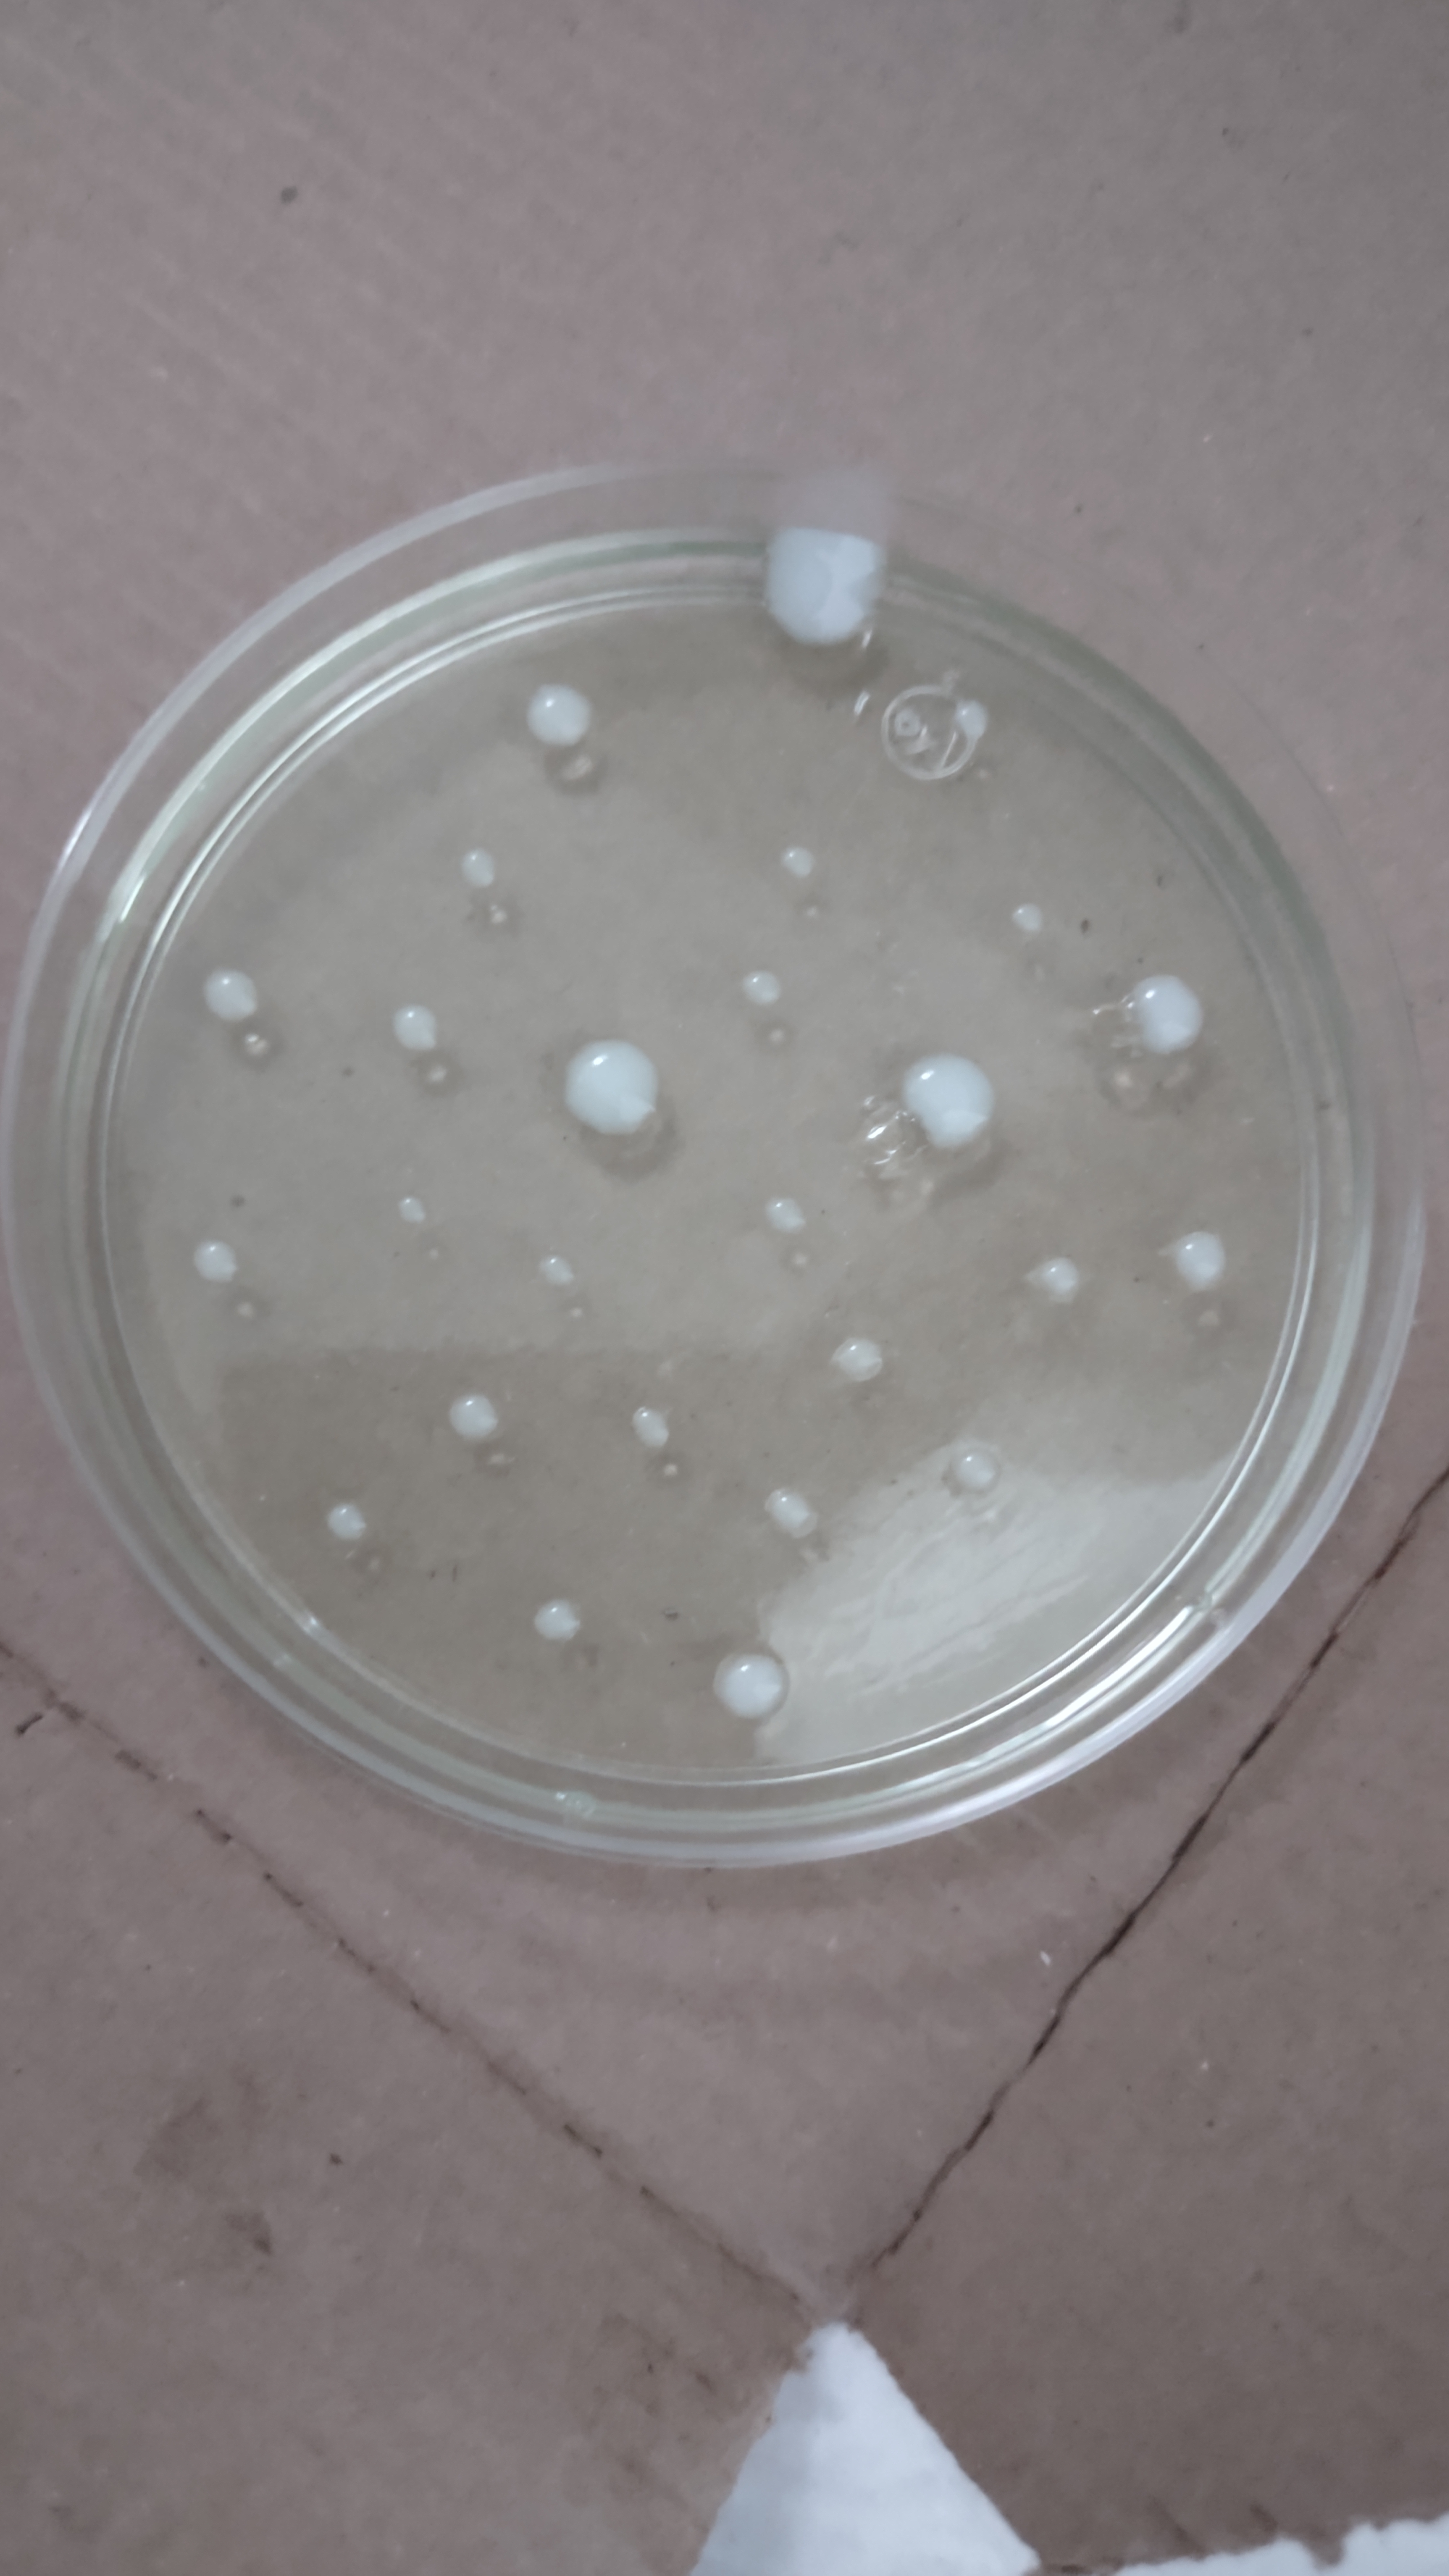Colonia: (763, 524, 881, 651), (895, 1047, 996, 1161), (563, 1031, 662, 1143), (1129, 973, 1208, 1058), (709, 1649, 793, 1721), (522, 683, 596, 747), (763, 1481, 826, 1539), (1030, 1247, 1086, 1313), (1175, 1224, 1230, 1292), (202, 966, 262, 1023), (945, 1447, 1000, 1500), (446, 1394, 506, 1440), (531, 1592, 584, 1644), (833, 1336, 888, 1385), (391, 1001, 441, 1049), (320, 1499, 375, 1539), (455, 844, 502, 890), (630, 1401, 678, 1447), (191, 1242, 242, 1283), (764, 1196, 812, 1233), (740, 970, 786, 1005), (1012, 901, 1053, 939), (538, 1254, 579, 1286), (777, 844, 816, 876), (400, 1196, 432, 1228)
